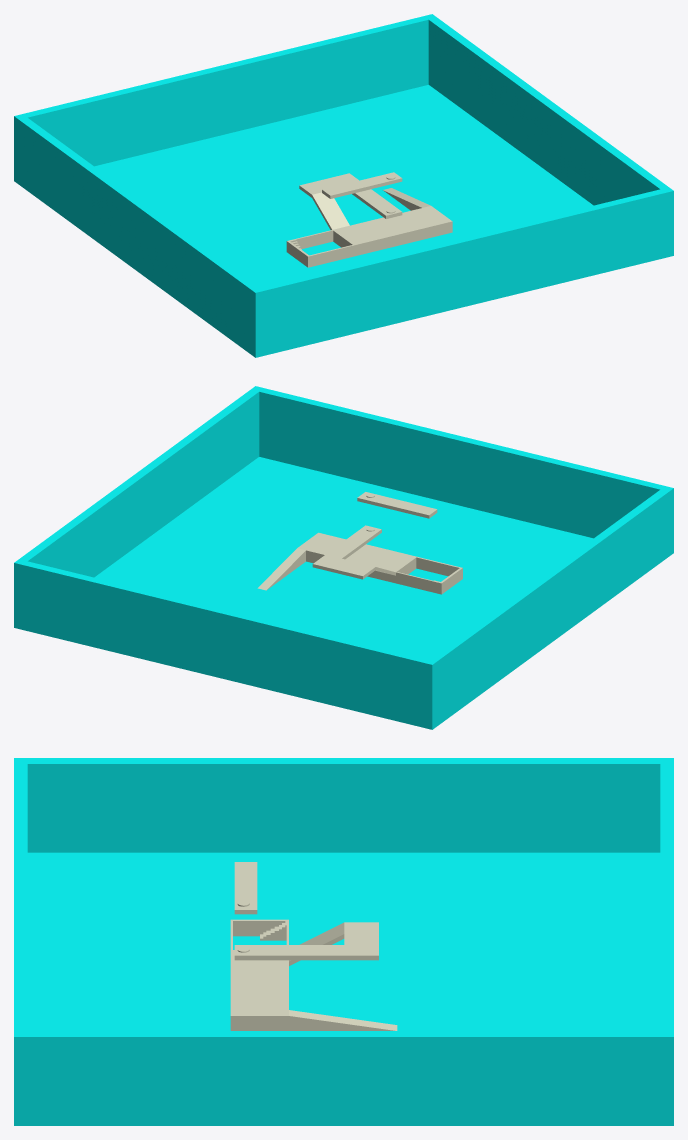
The model's file is building.dae.
3 renders of one model, top to bottom at view 1: azimuth 30°, elevation 25°; view 2: azimuth 150°, elevation 25°; view 3: azimuth 270°, elevation 25°, orthographic. The views are drawn at different scales.
Visible parts, largest first — view 1: group_0 (×2), SketchUp (×3); view 2: group_0 (×2), SketchUp (×3); view 3: group_0 (×2), SketchUp (×3).
Part boxes in pixels (x1,y1,x2,y2): group_0 (×2): (14,14,673,357); SketchUp (×3): (286,172,452,267); group_0 (×2): (14,386,673,729); SketchUp (×3): (257,492,462,594); group_0 (×2): (14,758,673,1125); SketchUp (×3): (230,862,397,1030).
Bounding box in the file's own units: 37652 × 37652 × 5674.
